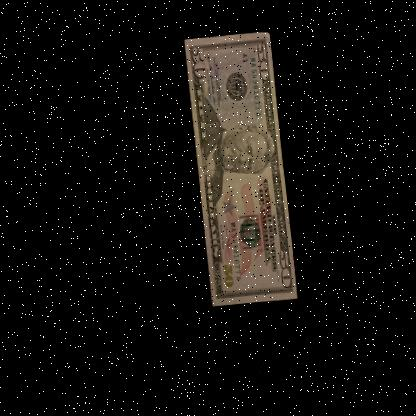fifty-front: (180, 35, 292, 312)
